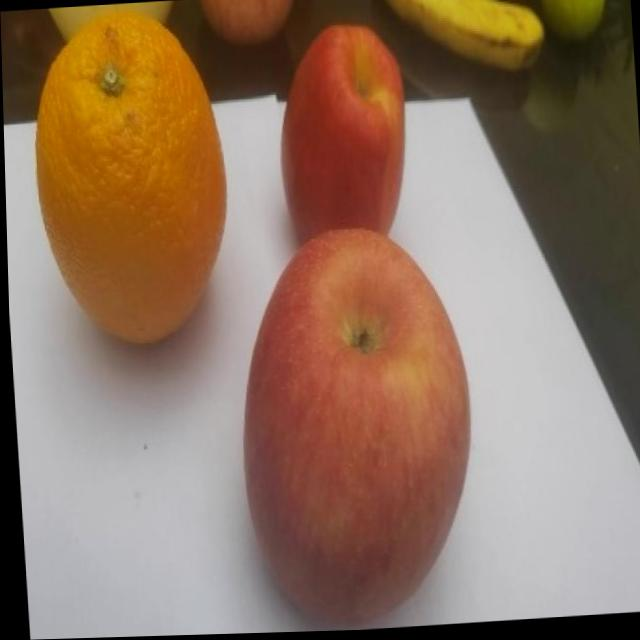Apple: (226, 222, 481, 635), (272, 23, 412, 247)
Orange: (25, 8, 235, 352)
